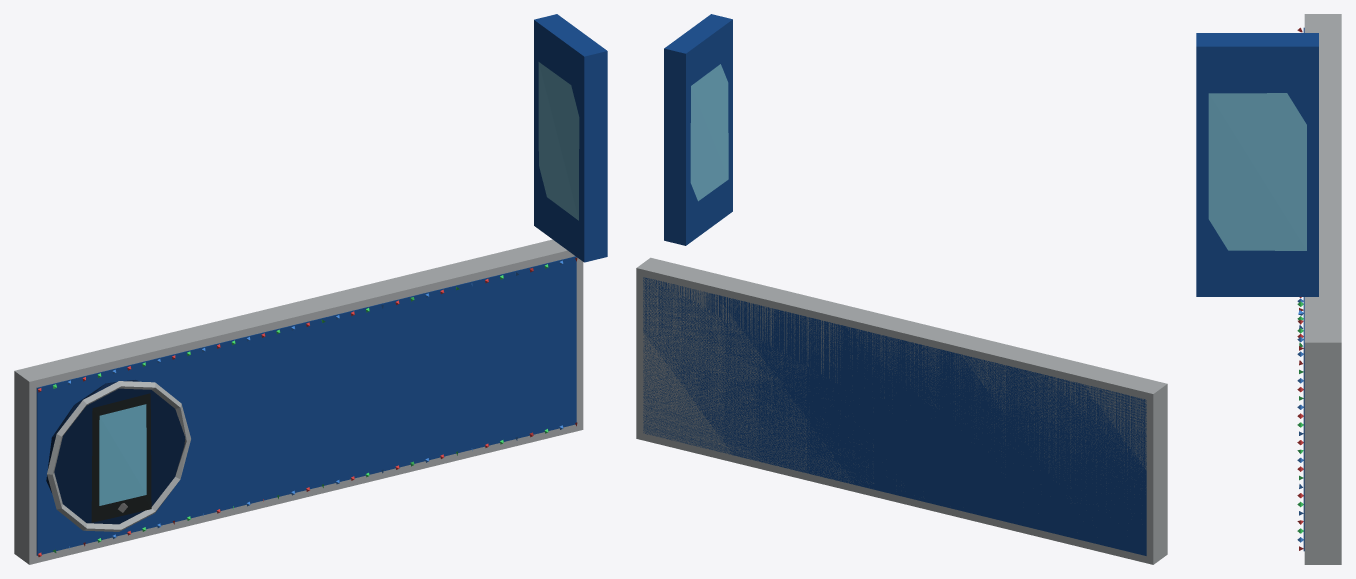
Rendered from bang_sua_dien_thoai_tuan_40.glb.
The picture shows the model from 3 angles, left to right: view 1: azimuth 30°, elevation 25°; view 2: azimuth 150°, elevation 25°; view 3: azimuth 270°, elevation 25°; orthographic projection. The views are drawn at different scales.
Visible parts, largest first — view 1: bang_sua_dien_thoai_tuan_40; view 2: bang_sua_dien_thoai_tuan_40; view 3: bang_sua_dien_thoai_tuan_40.
Boxes of the visible parts, bbox=[...] form: bang_sua_dien_thoai_tuan_40: bbox=[14, 14, 607, 564]; bang_sua_dien_thoai_tuan_40: bbox=[636, 14, 1167, 564]; bang_sua_dien_thoai_tuan_40: bbox=[1196, 14, 1341, 564].
Bounding box in the file's own units: 3.8 × 2.73 × 0.71.
